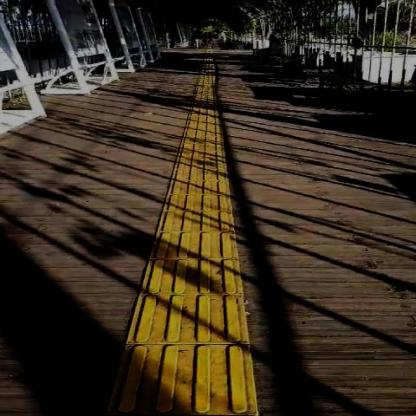podotacti: (110, 47, 260, 412)
